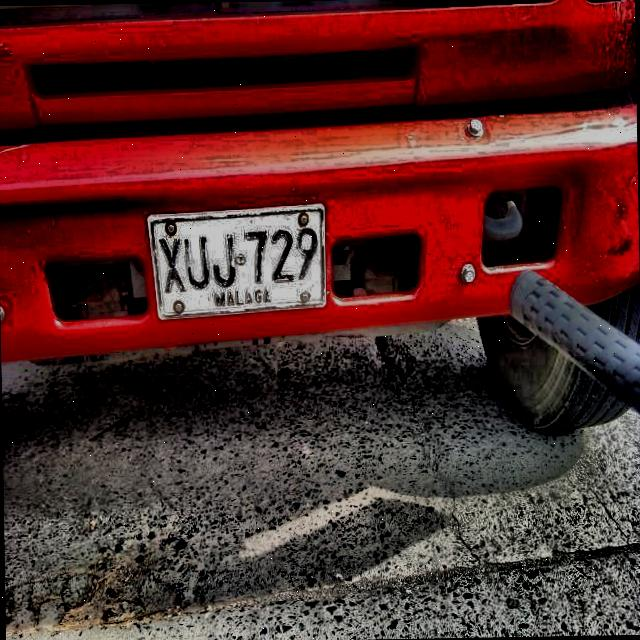2: (267, 228, 297, 283)
7: (244, 226, 271, 284)
9: (295, 224, 319, 284)
J: (209, 231, 240, 289)
U: (182, 234, 211, 292)
X: (157, 234, 188, 295)
